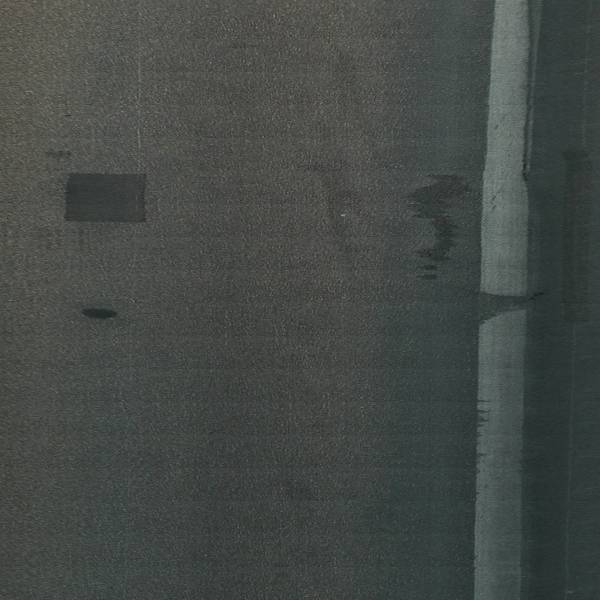road_damage: (59, 166, 159, 230), (76, 301, 125, 325)
